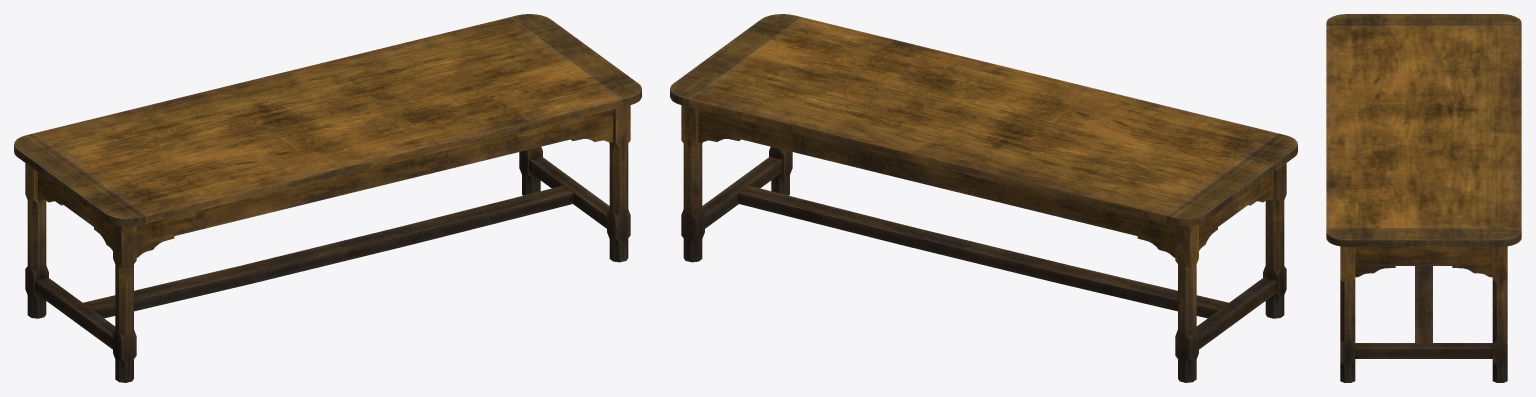
Rendered from WoodenTable_01.glb.
3 renders of one model, left to right at view 1: azimuth 30°, elevation 25°; view 2: azimuth 150°, elevation 25°; view 3: azimuth 270°, elevation 25°, orthographic. The views are drawn at different scales.
Parts seen in each view (by area): view 1: WoodenTable_01; view 2: WoodenTable_01; view 3: WoodenTable_01.
Boxes of the visible parts, bbox=[...] form: WoodenTable_01: bbox=[14, 14, 641, 382]; WoodenTable_01: bbox=[670, 14, 1297, 382]; WoodenTable_01: bbox=[1326, 14, 1521, 382].
Size of the model in its own units: 1.8 by 0.5488 by 0.6572.
1 material, 1 textured.
